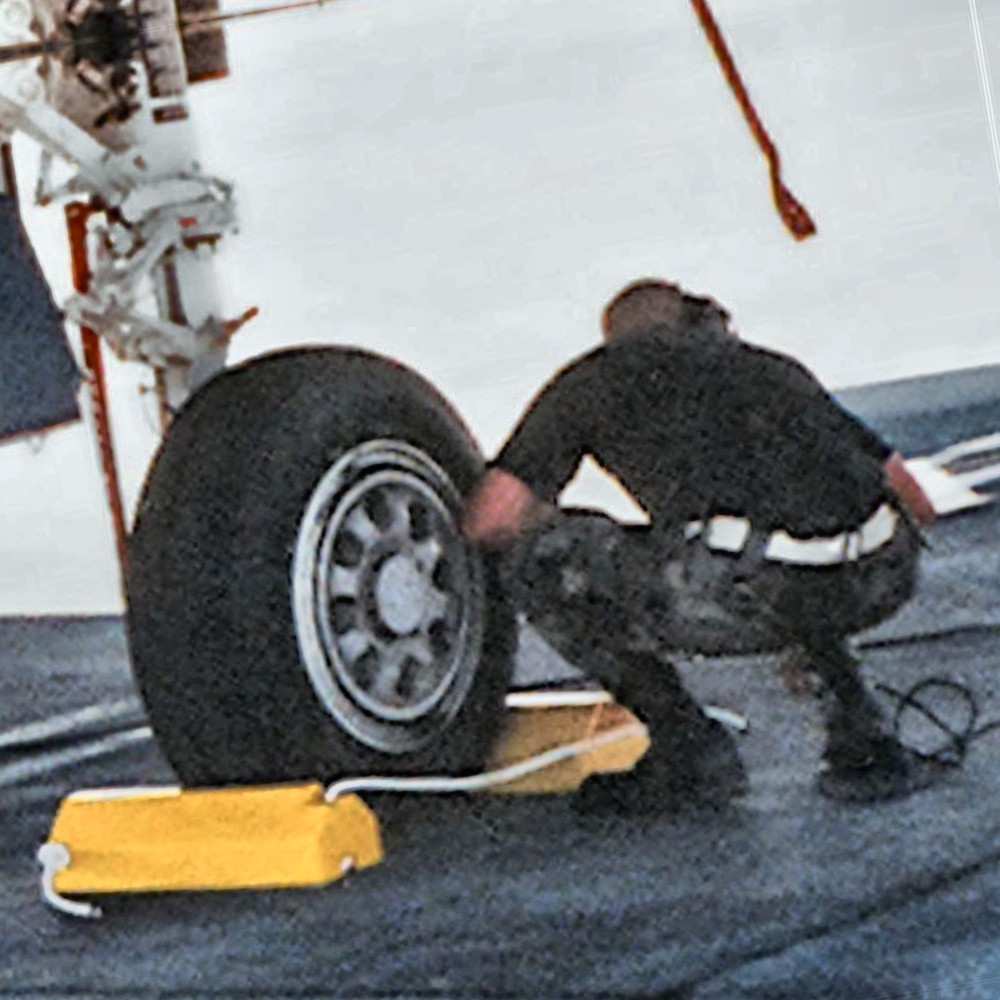chock: (18, 741, 393, 942), (354, 671, 671, 827)
wheel: (89, 317, 552, 832)
